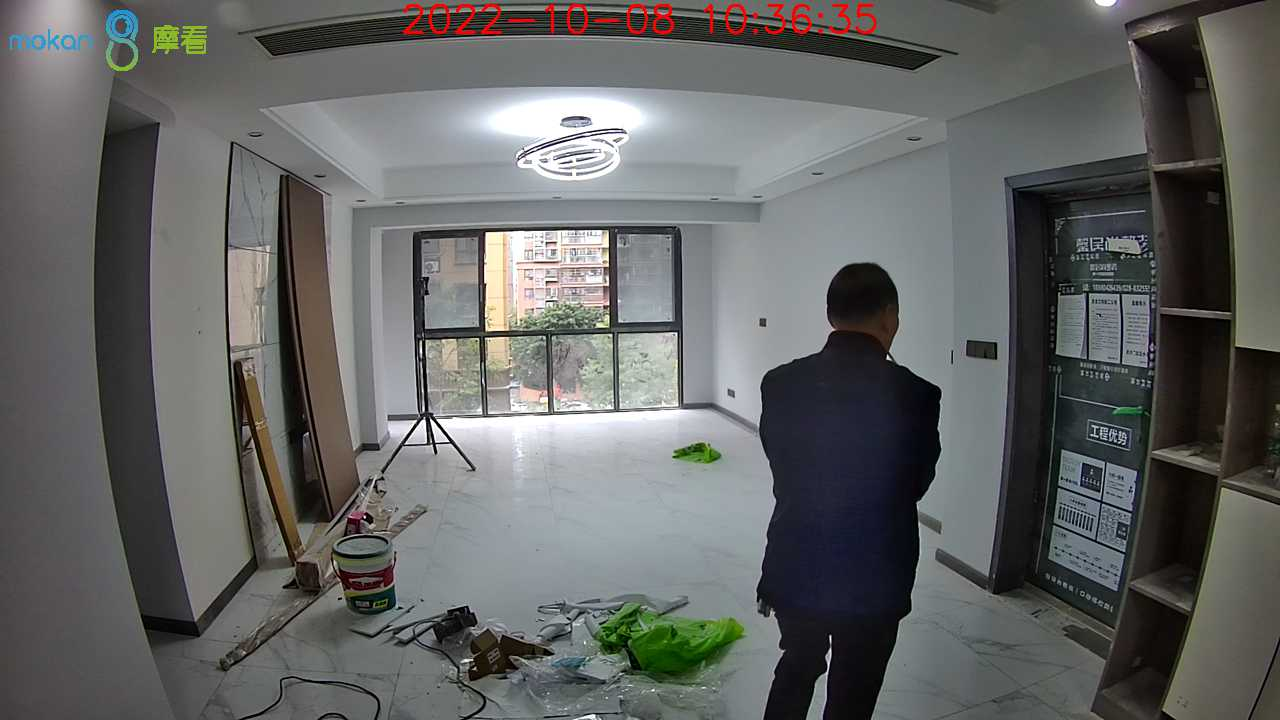people: (759, 262, 942, 720)
window: (417, 231, 682, 407)
